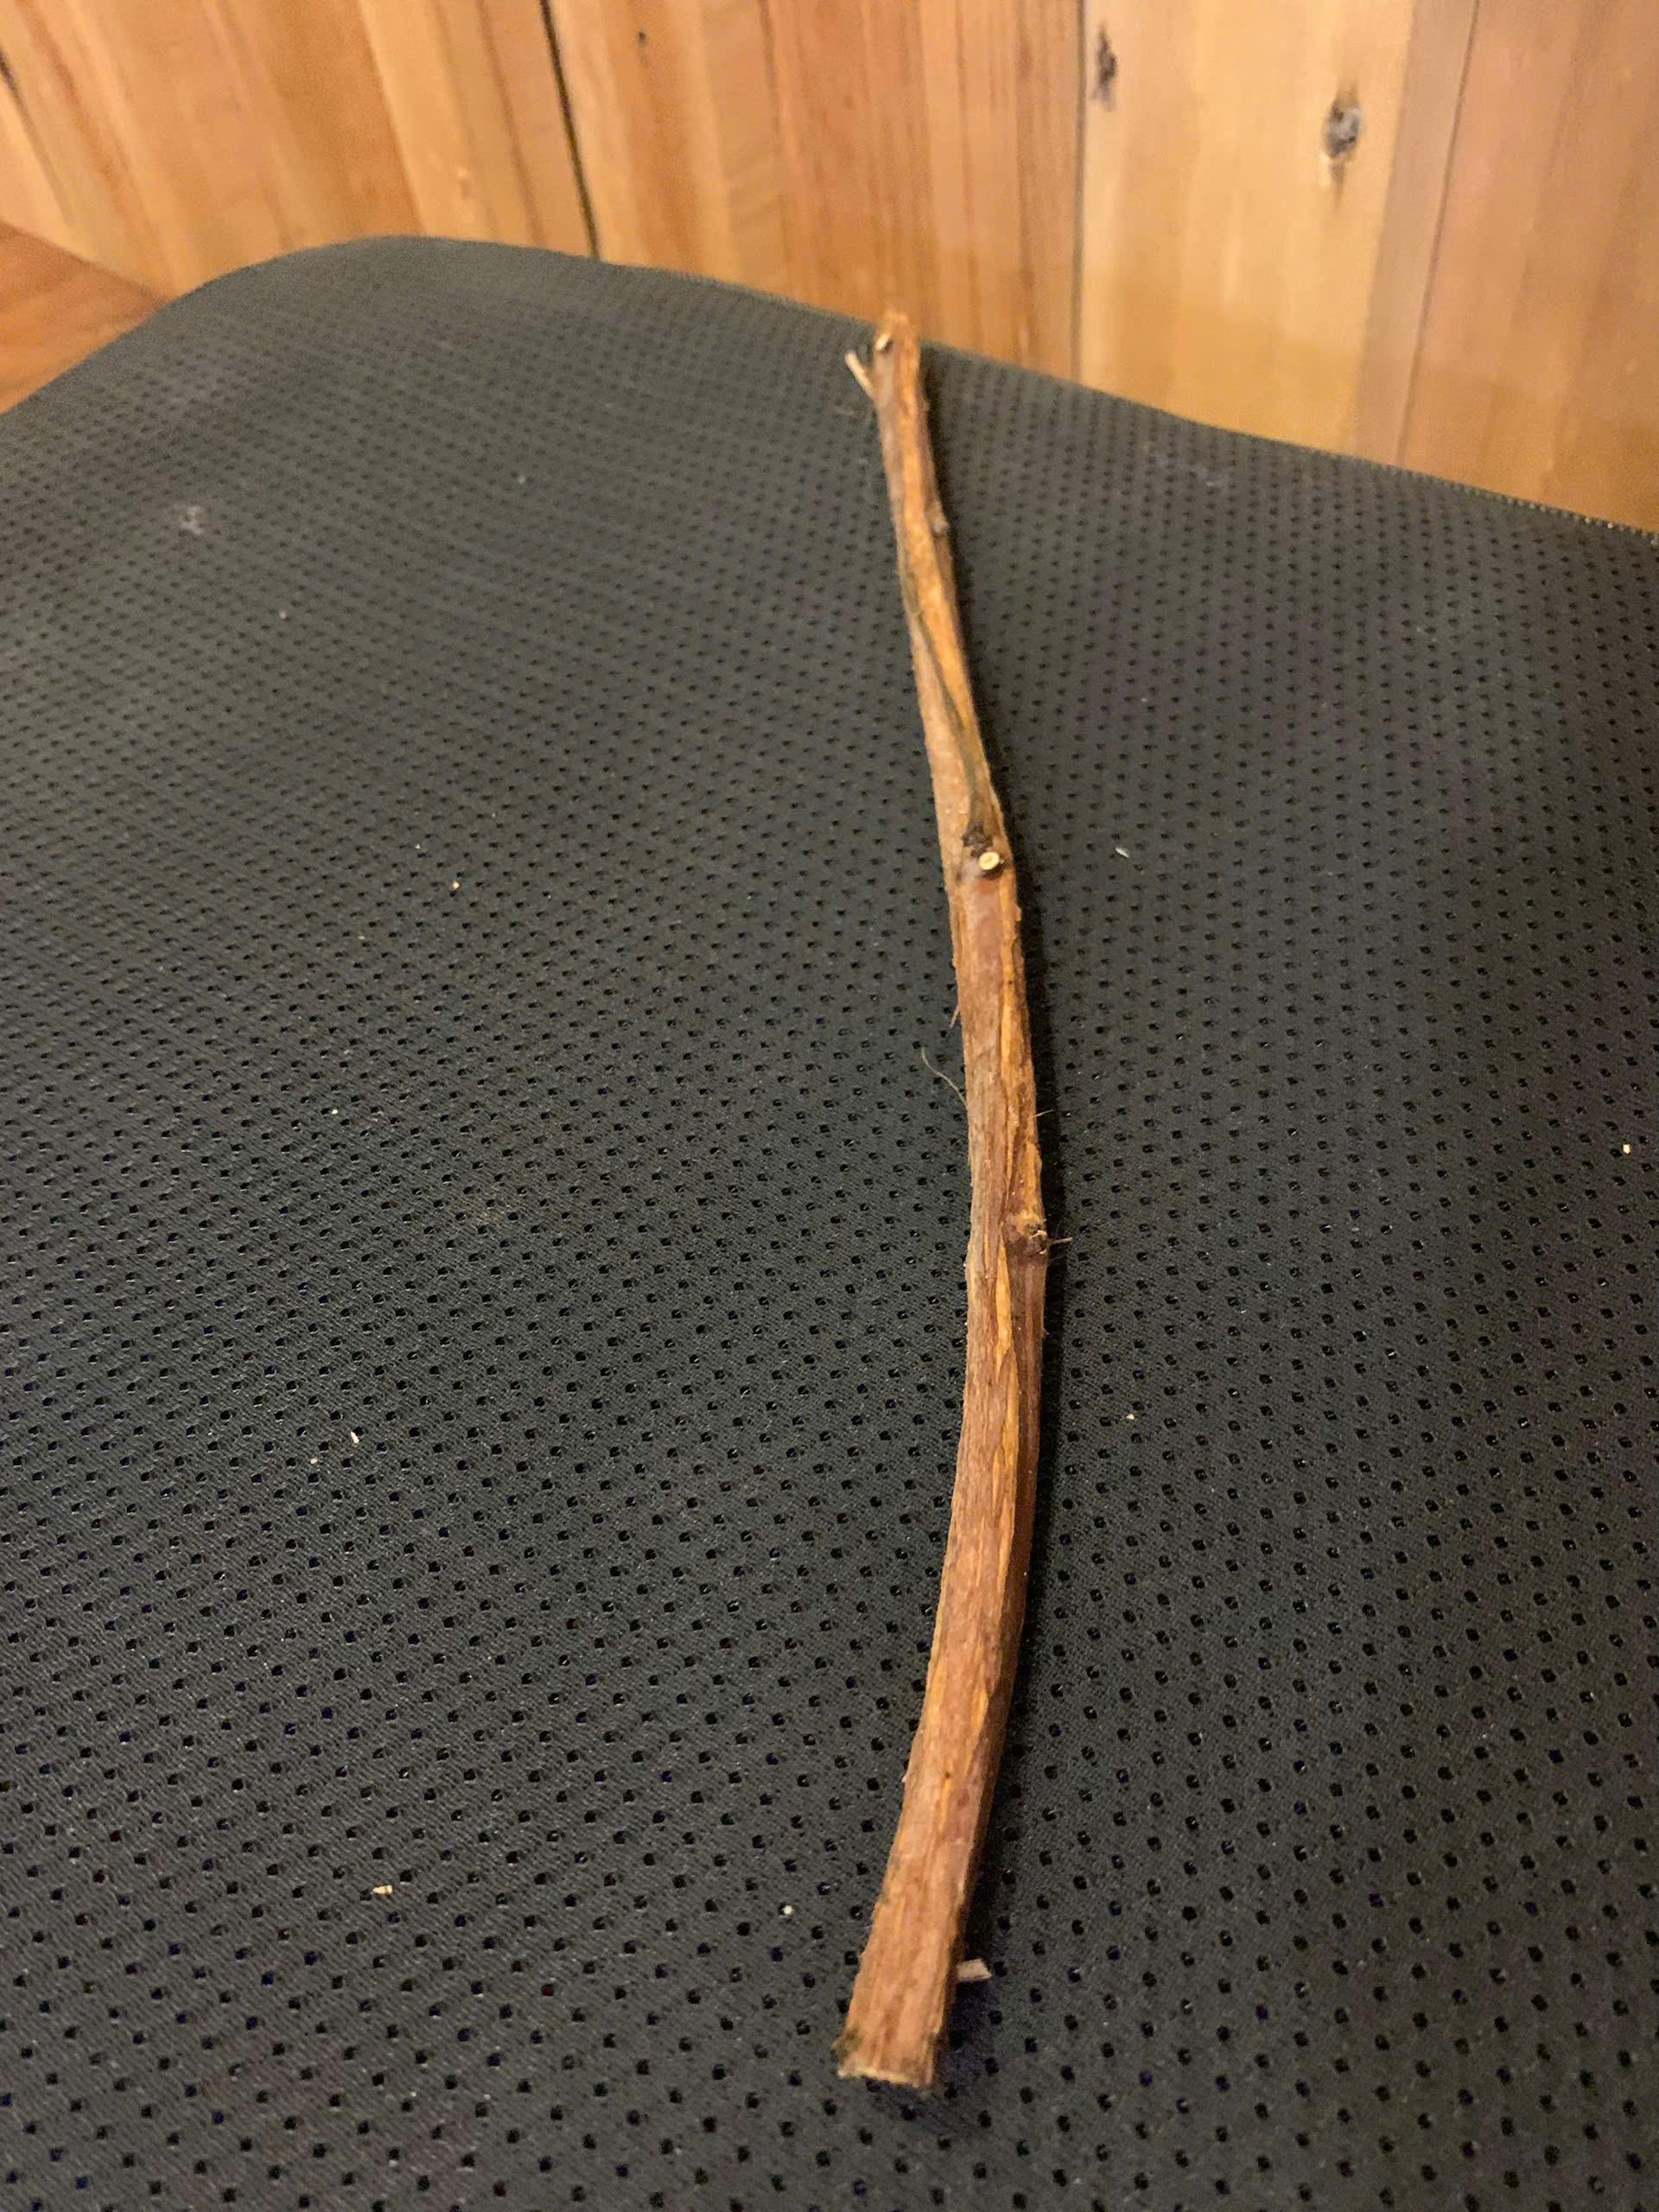Huu co: (804, 325, 1051, 2095)
